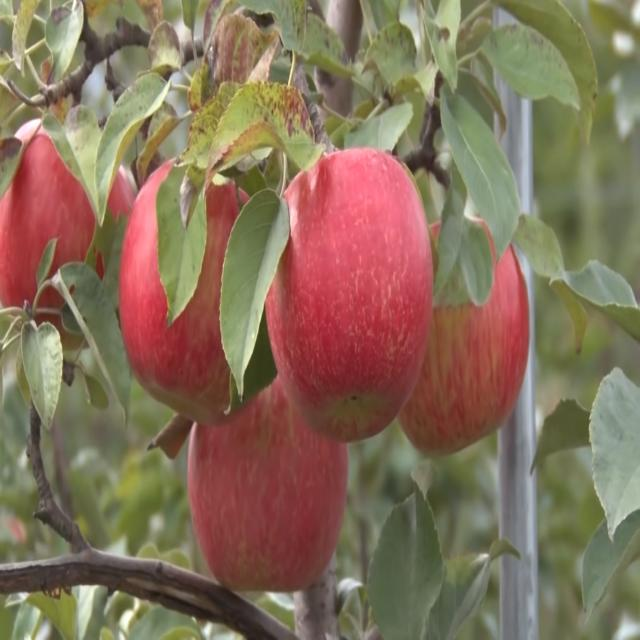100-_ripeness: (264, 140, 429, 438), (116, 152, 258, 424), (188, 406, 352, 593), (434, 189, 530, 440), (0, 117, 120, 305)
